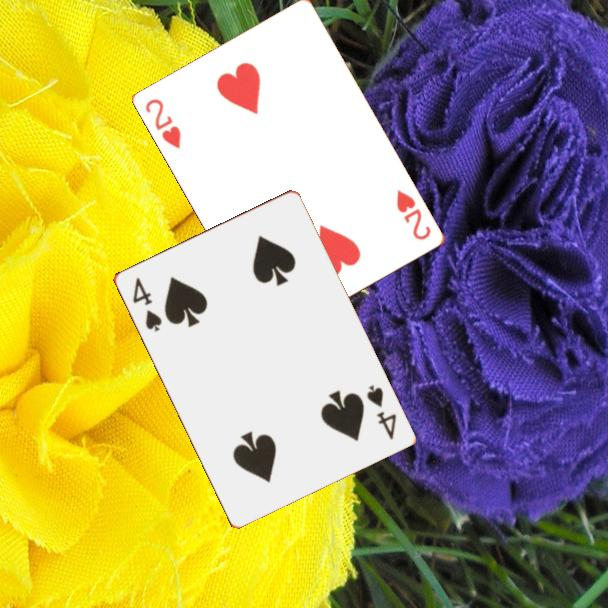h02: (142, 95, 184, 152), (393, 186, 434, 243)
s04: (362, 381, 399, 443), (128, 274, 165, 335)
